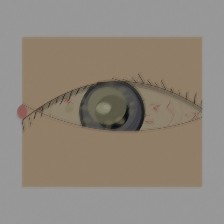corneal_ulcer: (75, 80, 139, 131)
